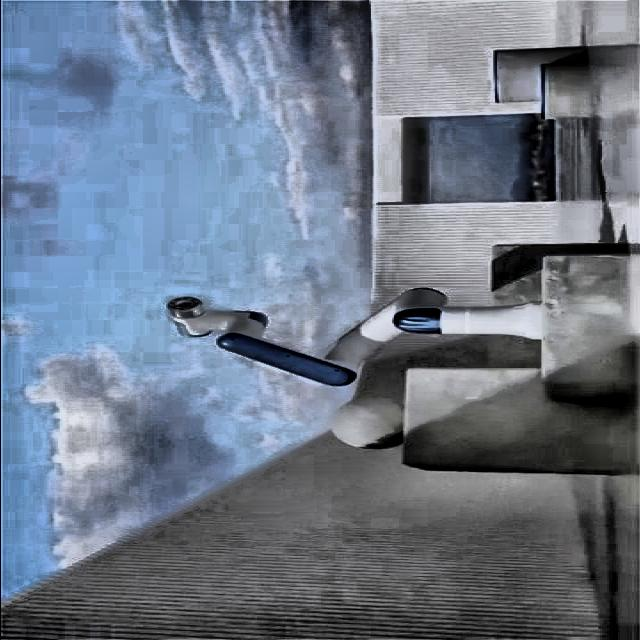robot: (162, 285, 540, 449)
